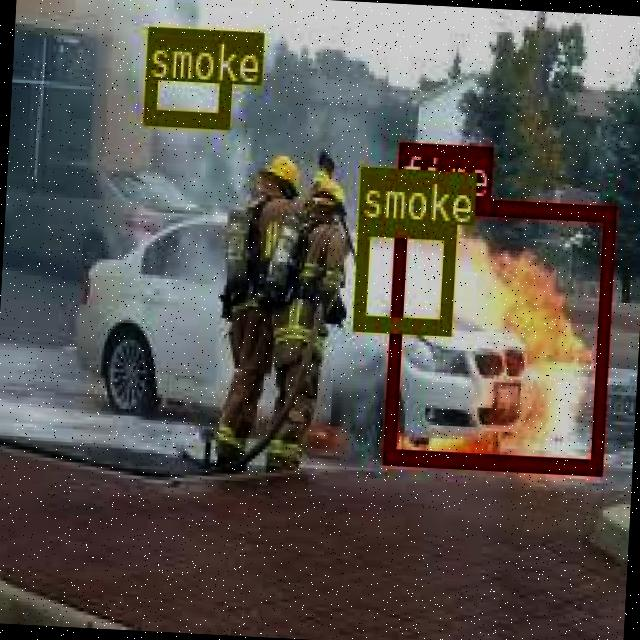fire: (380, 192, 612, 473)
smoke: (352, 218, 454, 331), (142, 26, 231, 124)
